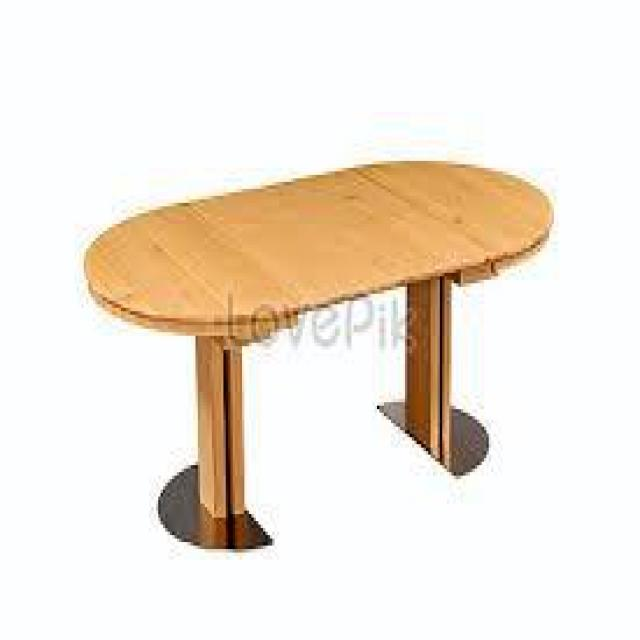table: (60, 133, 572, 563)
